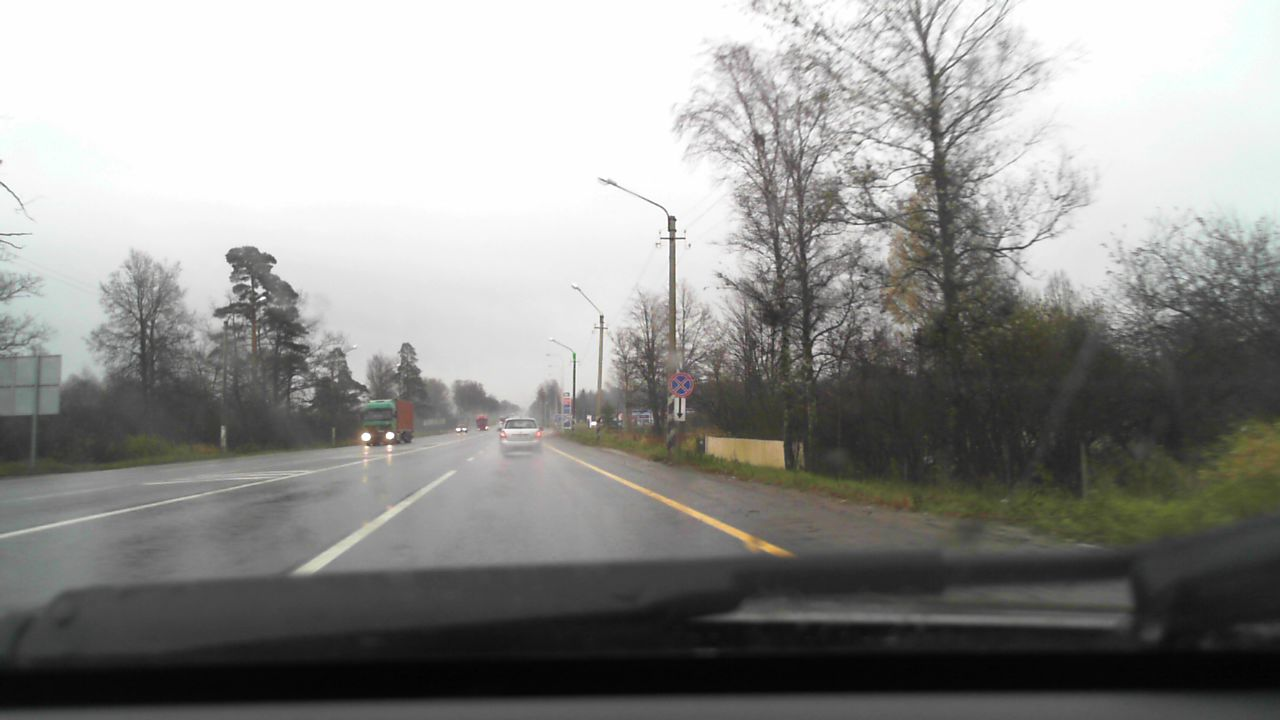No Parking: (667, 371, 694, 397)
